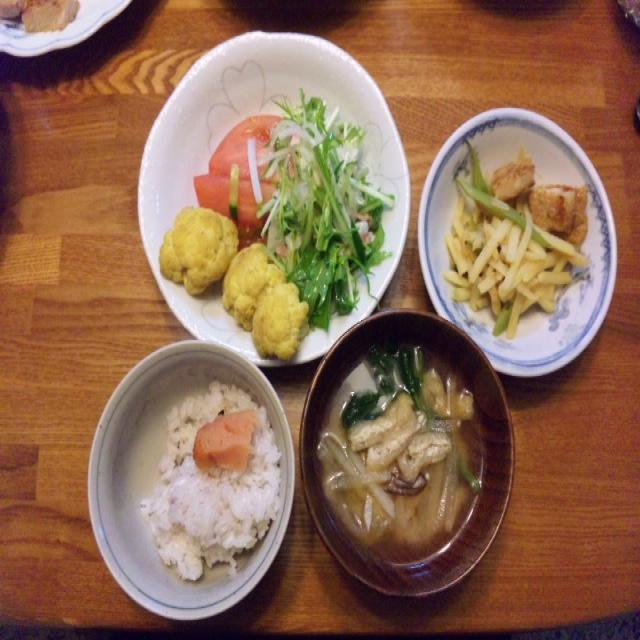Rice: (142, 383, 292, 582)
